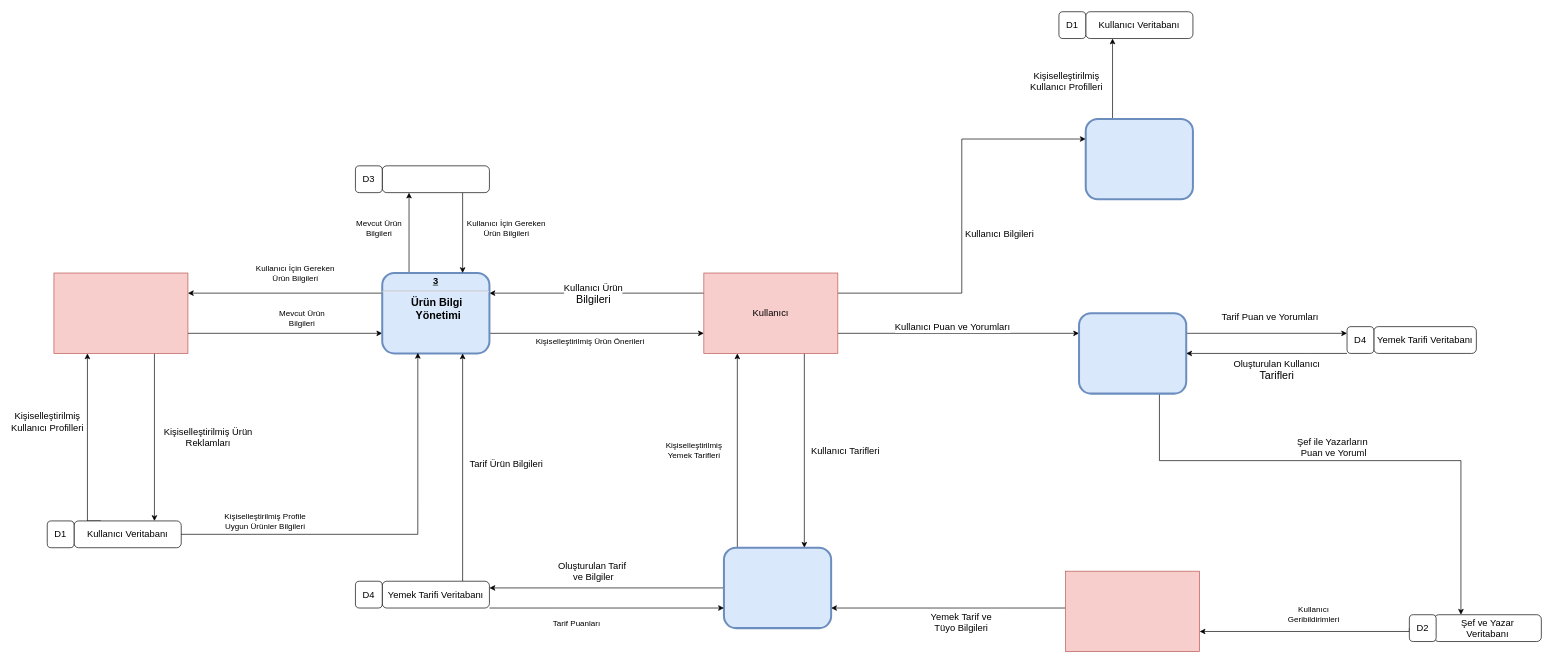
Image size: 1553x663. Some labels were removed from this diagram. The centre of each missing label's shape, as x and y in pixels:
"1 Kullanıcı Profil Yönetimi" goes at point 1139,159.
"2 Sosyal Ağ Yönetimi" goes at point 1132,353.
"4 Tarif Oluşturma Sistemi" goes at point 777,587.
"Market Zincirleri" goes at point 120,312.
"Ürün Veritabanı" goes at point 435,179.
"Şef ve Yazarlar" goes at point 1132,611.
